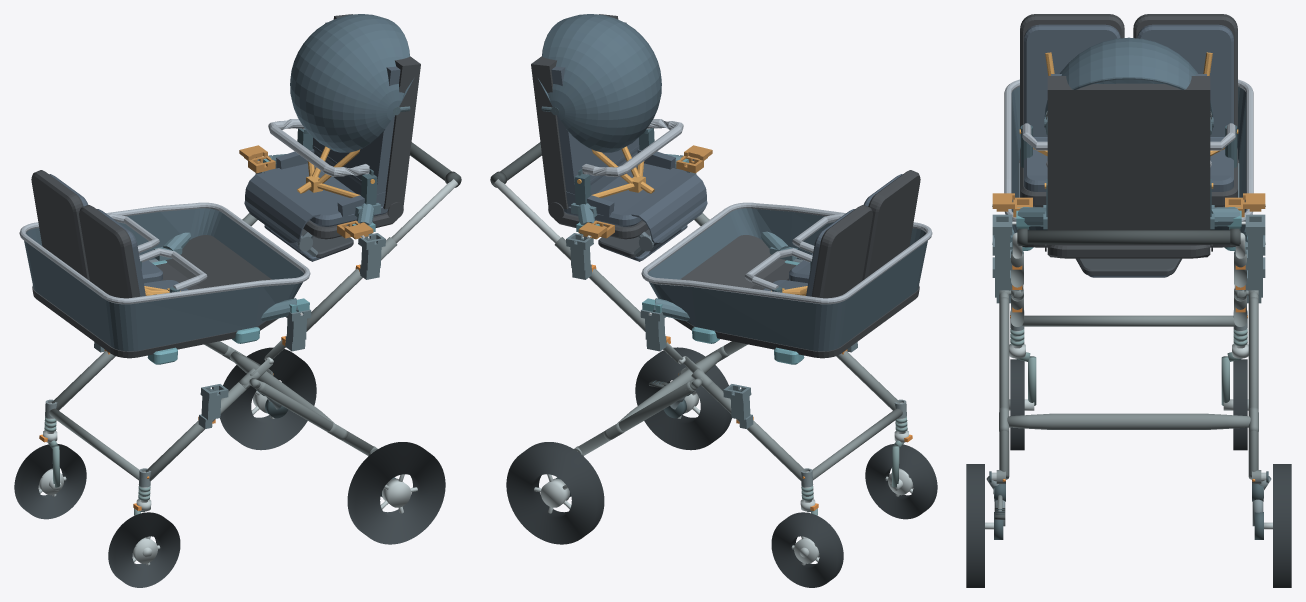
The model's file is D30_w650_state1_wheel_M.glb.
3 renders of one model, left to right at view 1: azimuth 30°, elevation 25°; view 2: azimuth 150°, elevation 25°; view 3: azimuth 270°, elevation 25°, orthographic. The views are drawn at different scales.
Visible parts, largest first — view 1: D30_Lower, D30_Upper, RL_tire.008, RR_tire.008, FL_tire.008, FR_tire.008, V46_rear_leg_-1.009, main_lower_-1.009, D30_Lower_Mount_M, front_fixed_round_tube.008, main_upper_-1.009, Universal_Cabin_Receiver_H_-1 (+8 smaller); view 2: D30_Lower, D30_Upper, RR_tire.008, RL_tire.008, FR_tire.008, FL_tire.008, V46_rear_leg_1.009, main_lower_1.009, D30_Lower_Mount_M, front_fixed_round_tube.008, main_upper_1.009, Universal_Cabin_Receiver_H_1 (+8 smaller); view 3: D30_Upper, D30_Lower, V46_rearbar.009, round_handle.008, front_fixed_round_tube.008, RL_tire.008, RR_tire.008, V46_rear_leg_1.009, V46_rear_leg_-1.009, D30_Upper_Mount_H, FL_tire.008, FR_tire.008 (+6 smaller).
Part boxes in pixels (x1,y1,x2,y2): D30_Lower: [19, 170, 310, 364]; D30_Upper: [244, 14, 420, 261]; RL_tire.008: [347, 442, 445, 544]; RR_tire.008: [220, 347, 316, 450]; FL_tire.008: [108, 512, 180, 587]; FR_tire.008: [14, 444, 86, 519]; V46_rear_leg_-1.009: [257, 382, 373, 455]; main_lower_-1.009: [145, 382, 249, 481]; D30_Lower_Mount_M: [154, 232, 309, 320]; front_fixed_round_tube.008: [49, 408, 139, 480]; main_upper_-1.009: [306, 237, 397, 331]; Universal_Cabin_Receiver_H_-1: [358, 233, 385, 279]; D30_Lower: [641, 170, 932, 364]; D30_Upper: [531, 14, 707, 261]; RR_tire.008: [506, 442, 604, 544]; RL_tire.008: [635, 347, 731, 450]; FR_tire.008: [771, 512, 843, 587]; FL_tire.008: [865, 444, 937, 519]; V46_rear_leg_1.009: [578, 382, 694, 455]; main_lower_1.009: [702, 382, 806, 481]; D30_Lower_Mount_M: [642, 231, 797, 320]; front_fixed_round_tube.008: [812, 408, 902, 480]; main_upper_1.009: [554, 237, 645, 331]; Universal_Cabin_Receiver_H_1: [566, 233, 593, 279]; D30_Upper: [1044, 37, 1213, 277]; D30_Lower: [1004, 14, 1253, 250]; V46_rearbar.009: [1007, 413, 1250, 429]; round_handle.008: [1017, 230, 1240, 244]; front_fixed_round_tube.008: [1022, 315, 1235, 326]; RL_tire.008: [966, 464, 984, 587]; RR_tire.008: [1273, 464, 1291, 587]; V46_rear_leg_1.009: [1248, 297, 1258, 479]; V46_rear_leg_-1.009: [999, 297, 1009, 479]; D30_Upper_Mount_H: [1012, 205, 1245, 229]; FL_tire.008: [1010, 359, 1024, 450]; FR_tire.008: [1233, 359, 1247, 450].
Bounding box in the file's own units: 1.17 × 1.48 × 0.7871.
